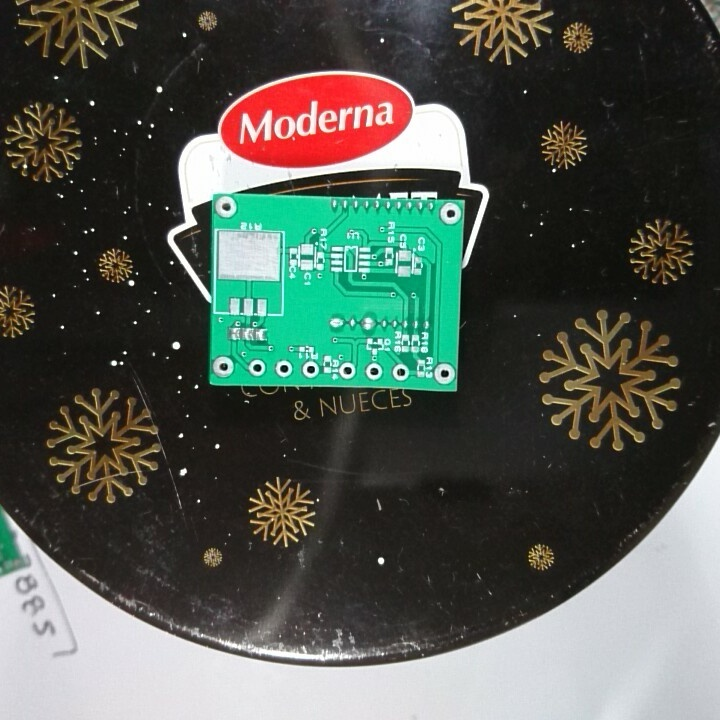F: (438, 200, 463, 229), (214, 193, 239, 222), (431, 360, 456, 386), (211, 353, 236, 379), (364, 360, 385, 383), (271, 358, 294, 379), (246, 357, 267, 379), (299, 360, 322, 380), (391, 362, 411, 384), (337, 360, 357, 381)
P: (328, 314, 347, 333), (357, 315, 377, 333)
